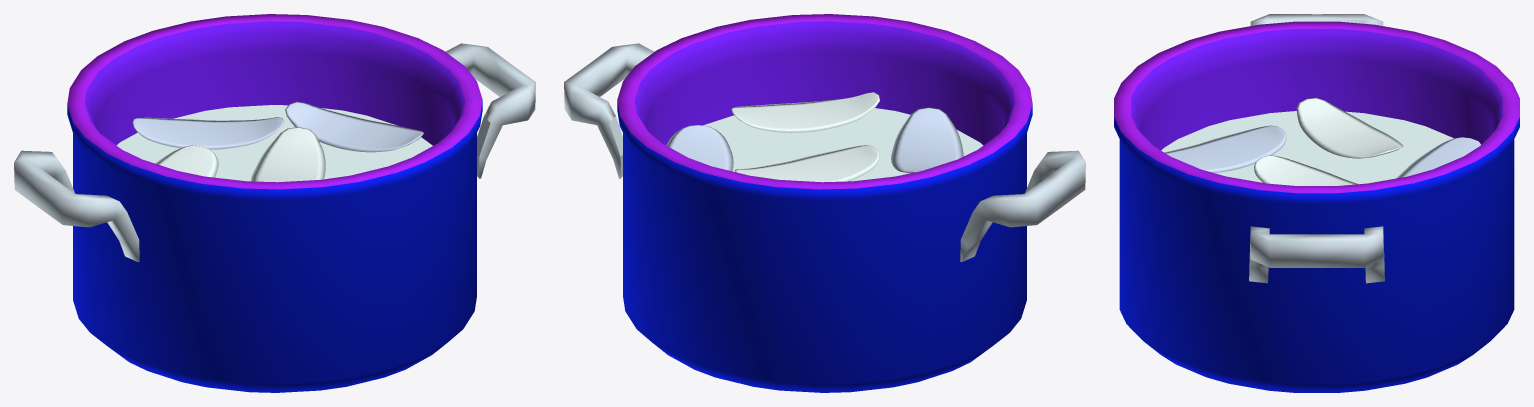
The model's file is PottedBluePetals.fbx.
The picture shows the model from 3 angles, left to right: view 1: azimuth 30°, elevation 25°; view 2: azimuth 150°, elevation 25°; view 3: azimuth 270°, elevation 25°; orthographic projection.
Visible parts, largest first — view 1: Body.006, Handles.004, Water.001, Petel.055, Petel.056, Petel.054, Petel.051; view 2: Body.006, Handles.004, Water.001, Petel.053, Petel.052, Petel.054, Petel.055; view 3: Body.006, Water.001, Handles.004, Petel.051, Petel.052, Petel.054, Petel.056.
Part boxes in pixels (box(x1,y1,x2,y2)): Body.006: box(67, 14, 482, 392); Handles.004: box(14, 43, 535, 261); Water.001: box(116, 105, 432, 181); Petel.055: box(285, 101, 423, 152); Petel.056: box(132, 117, 284, 149); Petel.054: box(251, 127, 325, 182); Petel.051: box(155, 145, 218, 177); Body.006: box(617, 14, 1032, 392); Handles.004: box(564, 43, 1085, 261); Water.001: box(703, 108, 983, 181); Petel.053: box(731, 92, 879, 132); Petel.052: box(891, 107, 963, 173); Petel.054: box(734, 145, 879, 182); Petel.055: box(666, 125, 733, 171); Body.006: box(1114, 21, 1519, 392); Water.001: box(1161, 111, 1453, 184); Handles.004: box(1249, 14, 1384, 283); Petel.051: box(1296, 97, 1403, 158); Petel.052: box(1164, 125, 1286, 172); Petel.054: box(1254, 155, 1358, 185); Petel.056: box(1396, 137, 1480, 178).
Size of the model in its own units: 83.38 by 35.99 by 62.94.
